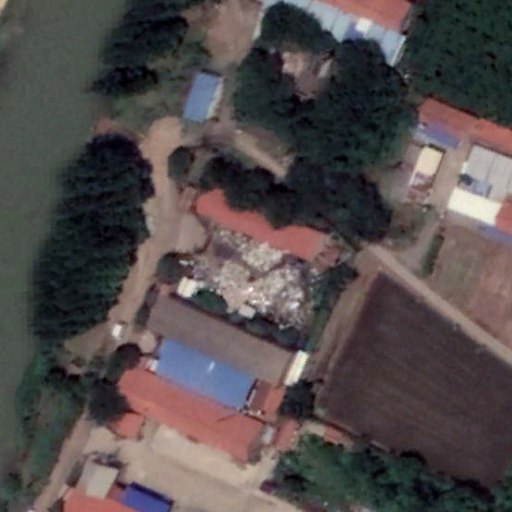msw: (182, 231, 323, 325)
